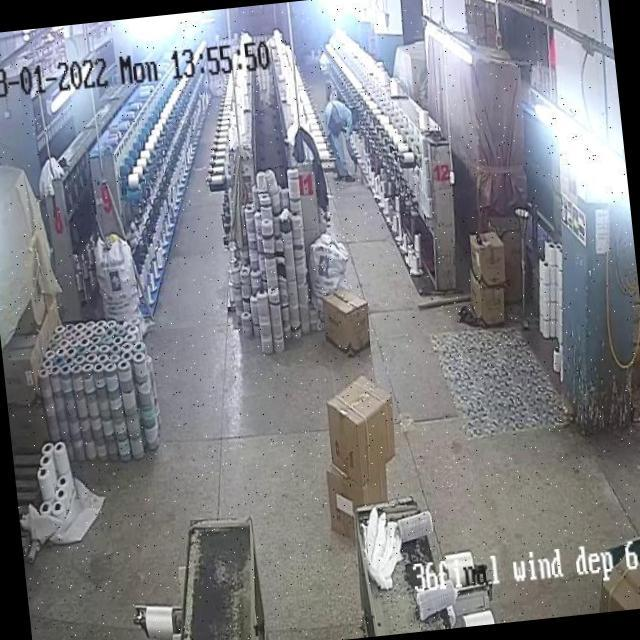person: (326, 100, 362, 181)
